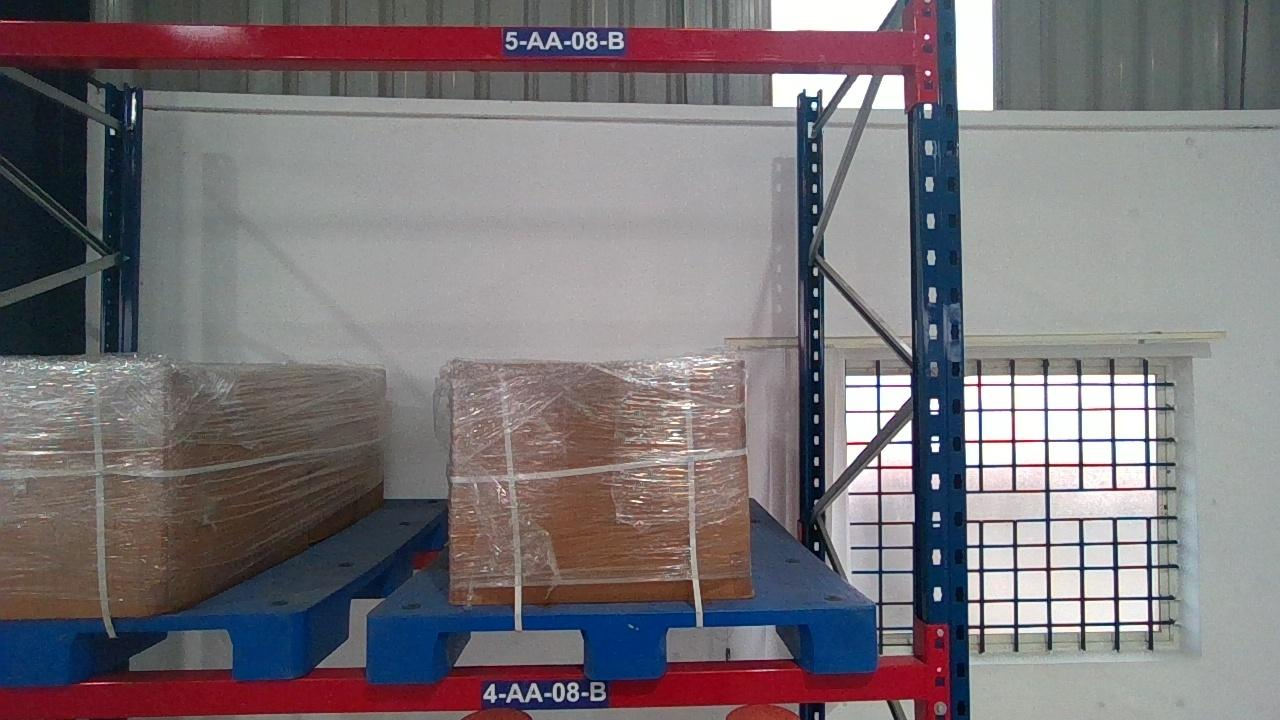h_rack: (0, 663, 925, 715), (0, 23, 915, 64)
small_pallet: (364, 607, 881, 677), (0, 613, 303, 677)
